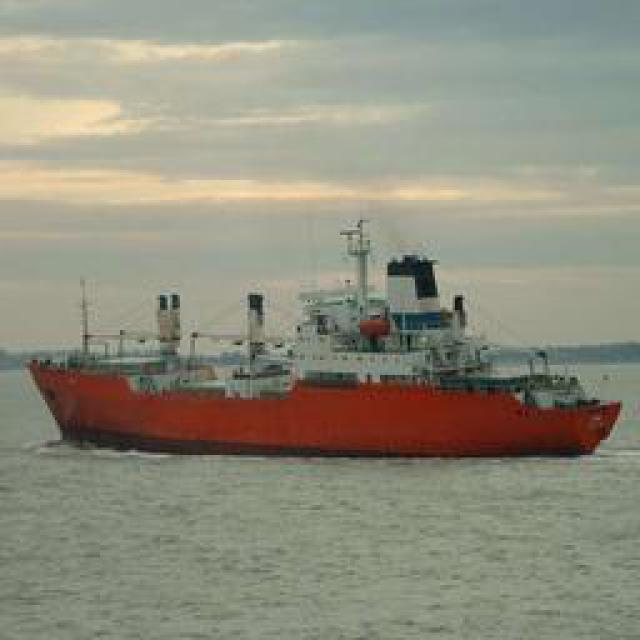Ship: (16, 290, 631, 465)
